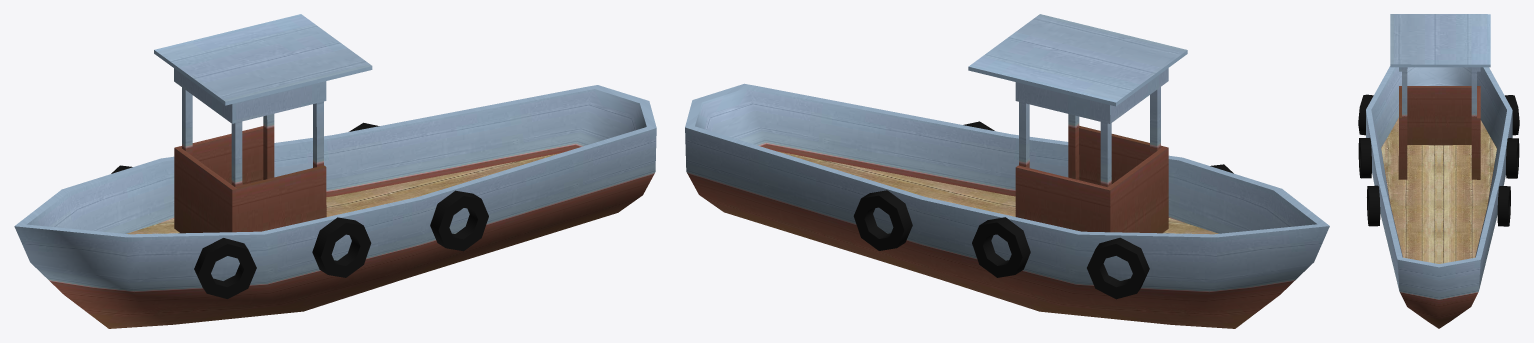
File: DD_Fishing_Boat.FBX
3 views of the same model, side by side, from view 1: azimuth 30°, elevation 25°; view 2: azimuth 150°, elevation 25°; view 3: azimuth 270°, elevation 25° (orthographic). The views are drawn at different scales.
Visible parts, largest first — view 1: DD_Fishing_Boat; view 2: DD_Fishing_Boat; view 3: DD_Fishing_Boat.
Part boxes in pixels (<box>): DD_Fishing_Boat: <box>14,14,656,328</box>; DD_Fishing_Boat: <box>685,14,1329,328</box>; DD_Fishing_Boat: <box>1358,14,1519,328</box>.
Size of the model in its own units: 5.17 by 1.62 by 1.81.
